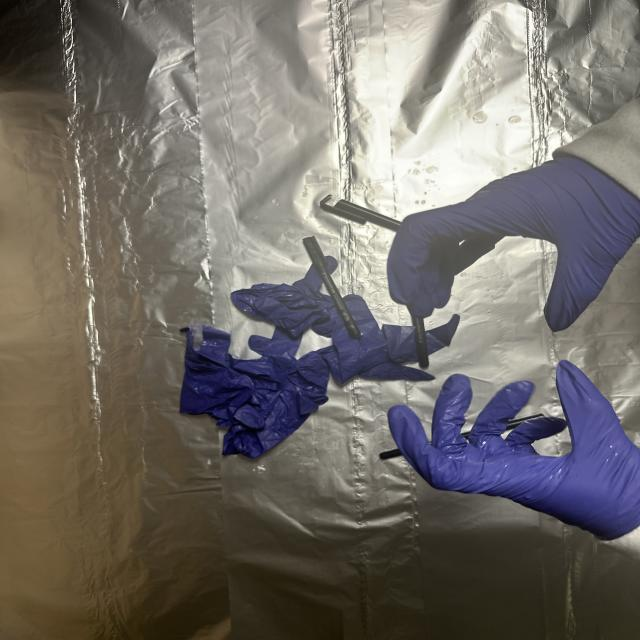gloves_contaminated: (388, 360, 640, 540), (387, 158, 640, 332)
